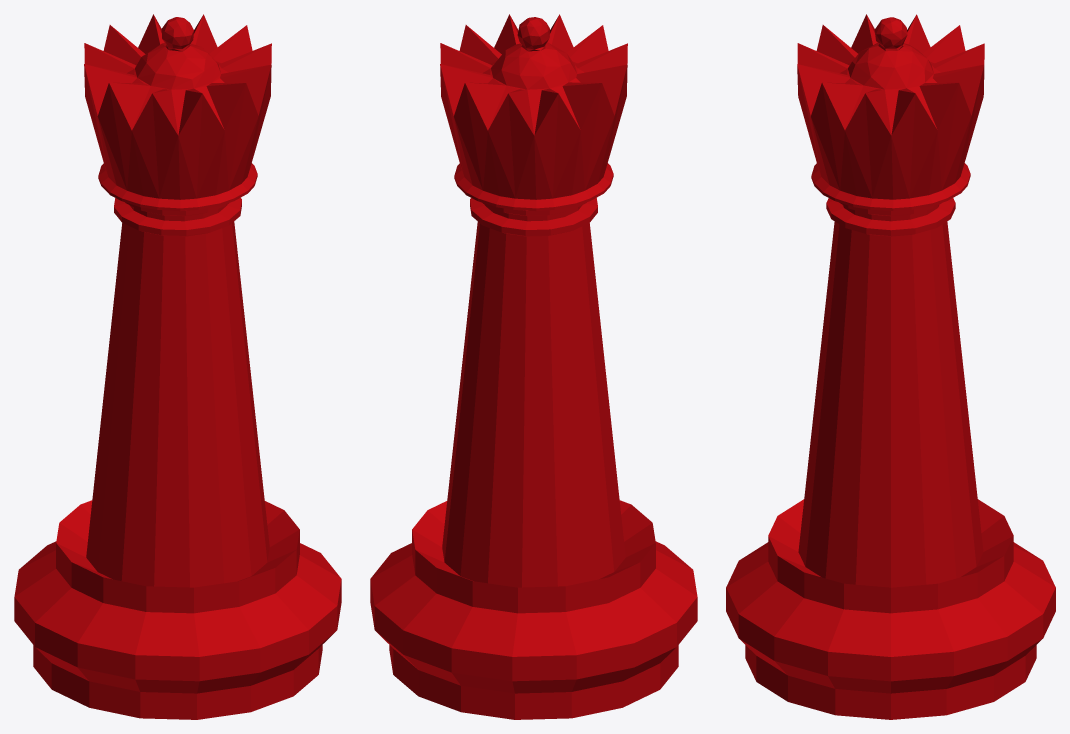
Rendered from chess_queen.glb.
3 renders of one model, left to right at view 1: azimuth 30°, elevation 25°; view 2: azimuth 150°, elevation 25°; view 3: azimuth 270°, elevation 25°, orthographic.
Visible parts, largest first — view 1: queen; view 2: queen; view 3: queen.
Boxes of the visible parts, <box> form: queen: <box>14,14,341,719</box>; queen: <box>370,14,697,719</box>; queen: <box>726,14,1055,719</box>.
Bounding box in the file's own units: 1.81 × 3.87 × 1.81.
